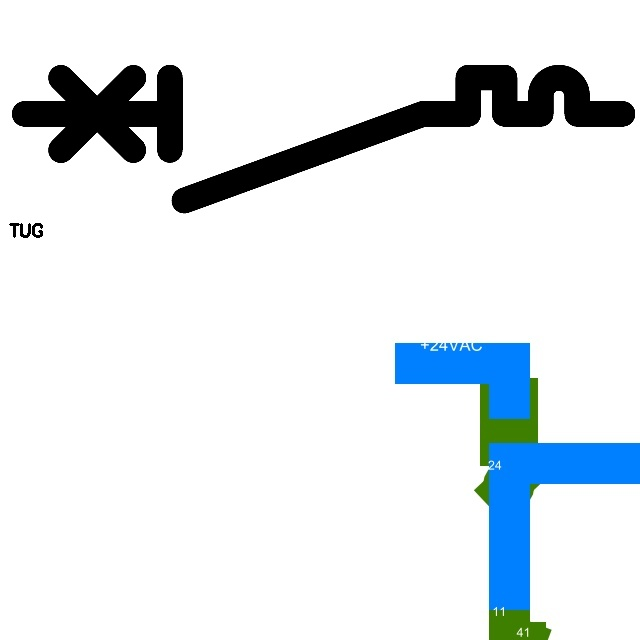interruptor_termomagnetico: (9, 62, 638, 216)
